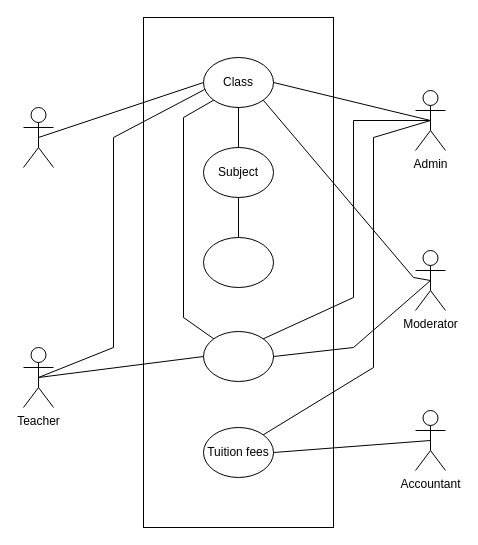
Some shapes in this 478 by 545 pixel diagram are drawn without their labels. The shapes that lost their labels are listed below. From the top down, each one's centre as x and y in pixels, then its label:
At (38,137): "Student".
At (238,262): "Result".
At (238,356): "Attendance".
